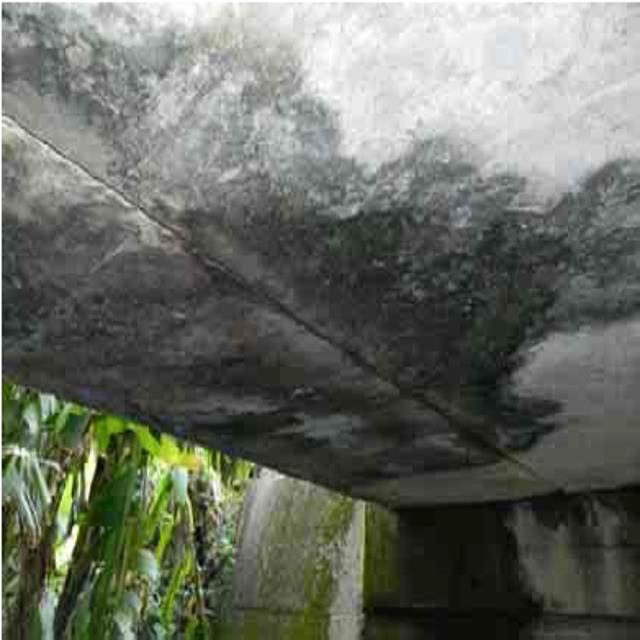leakage: (10, 169, 639, 414)
